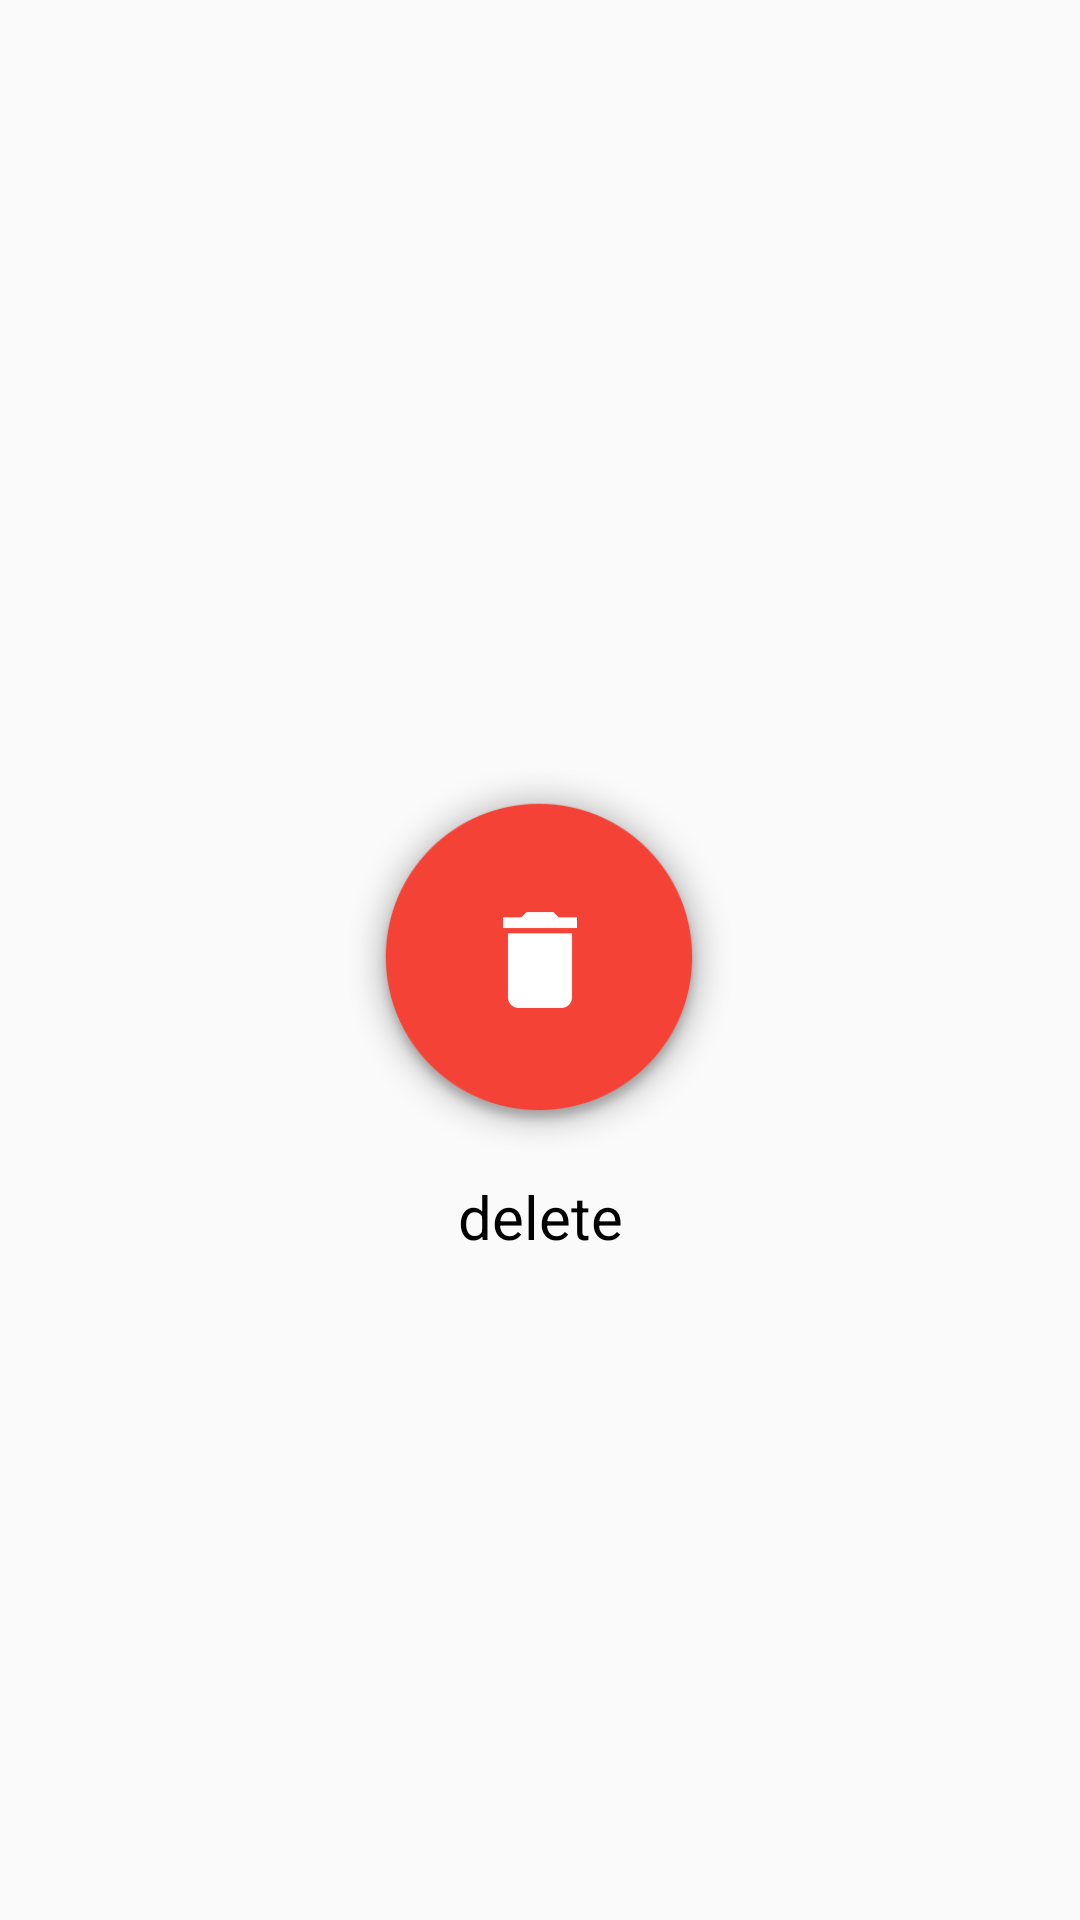

Locate icon controls on the screen. Image size 1080*1920, boxes as (left=x1, top=y1, right=x2, bottom=y2).
delete: (left=503, top=912, right=577, bottom=1008)
